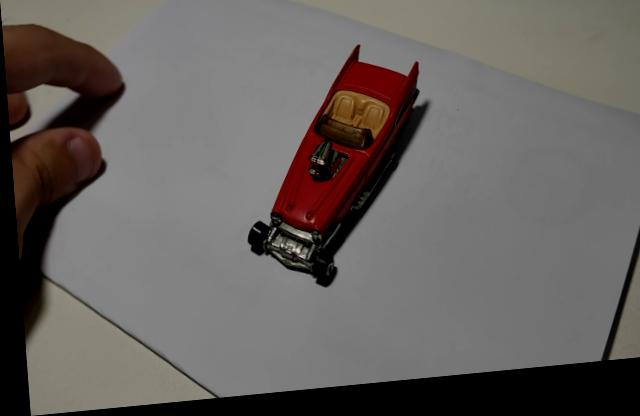03_V8: (242, 54, 426, 295)
